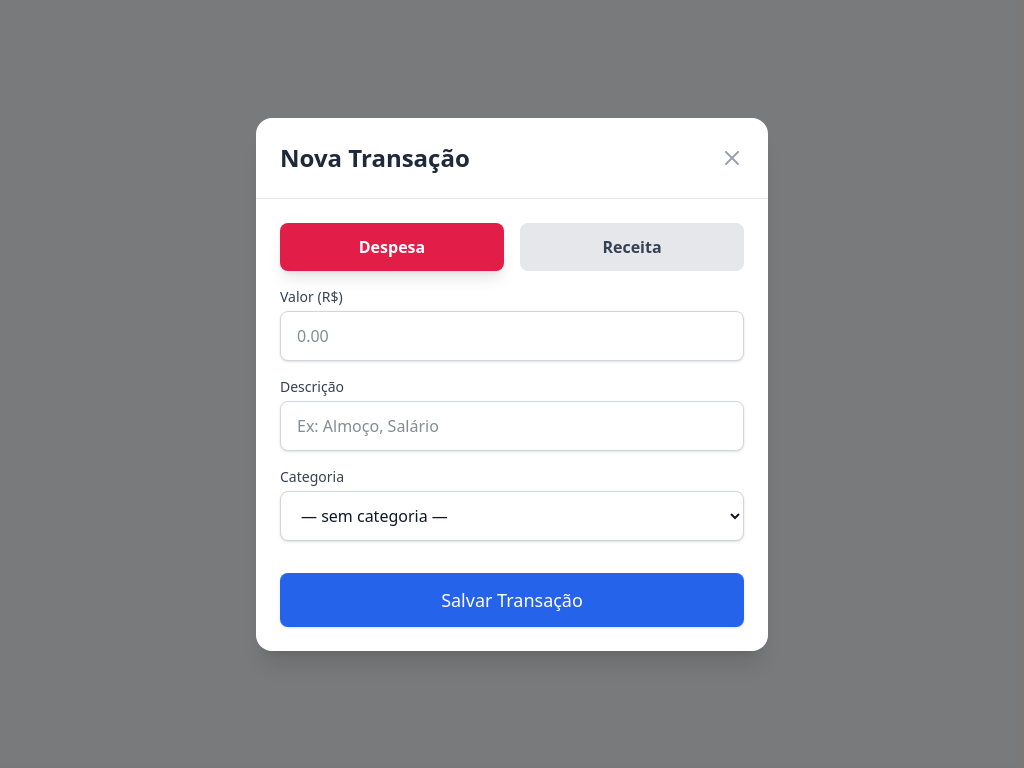
it: NewTransactionModal › shows a validation error when amount/description are missing
Click the button "Salvar Transação" at (512, 600), box [280,572,744,626]
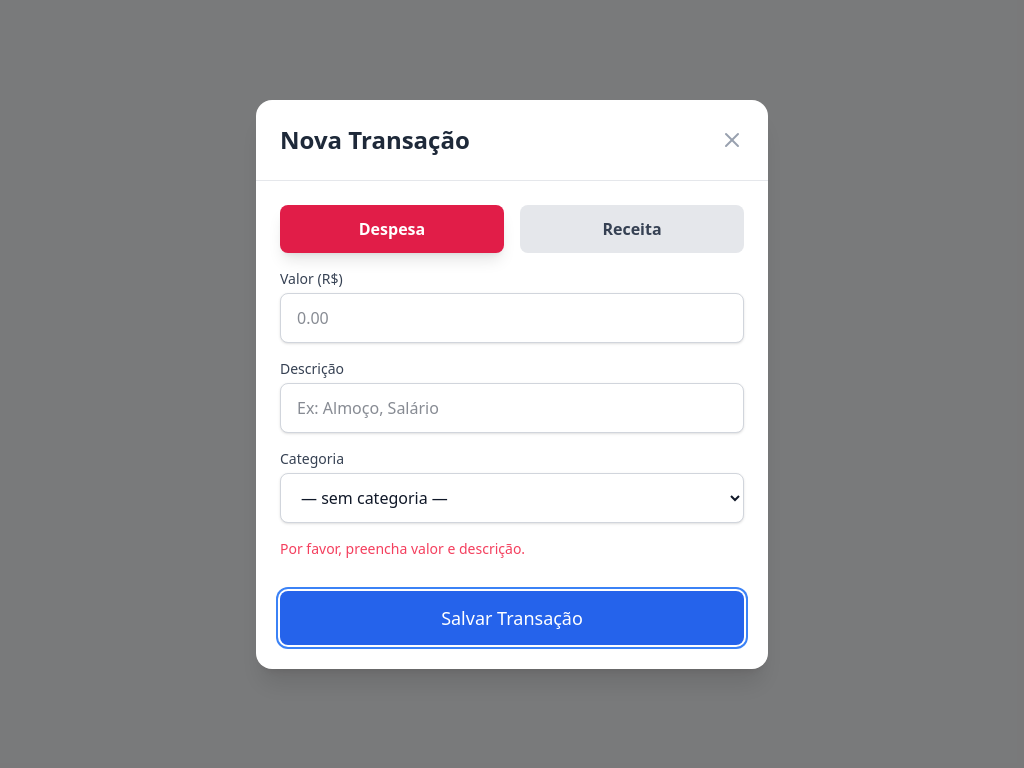
Expected: the text "Por favor, preencha valor e descrição." is shown, [280,538,525,558]
